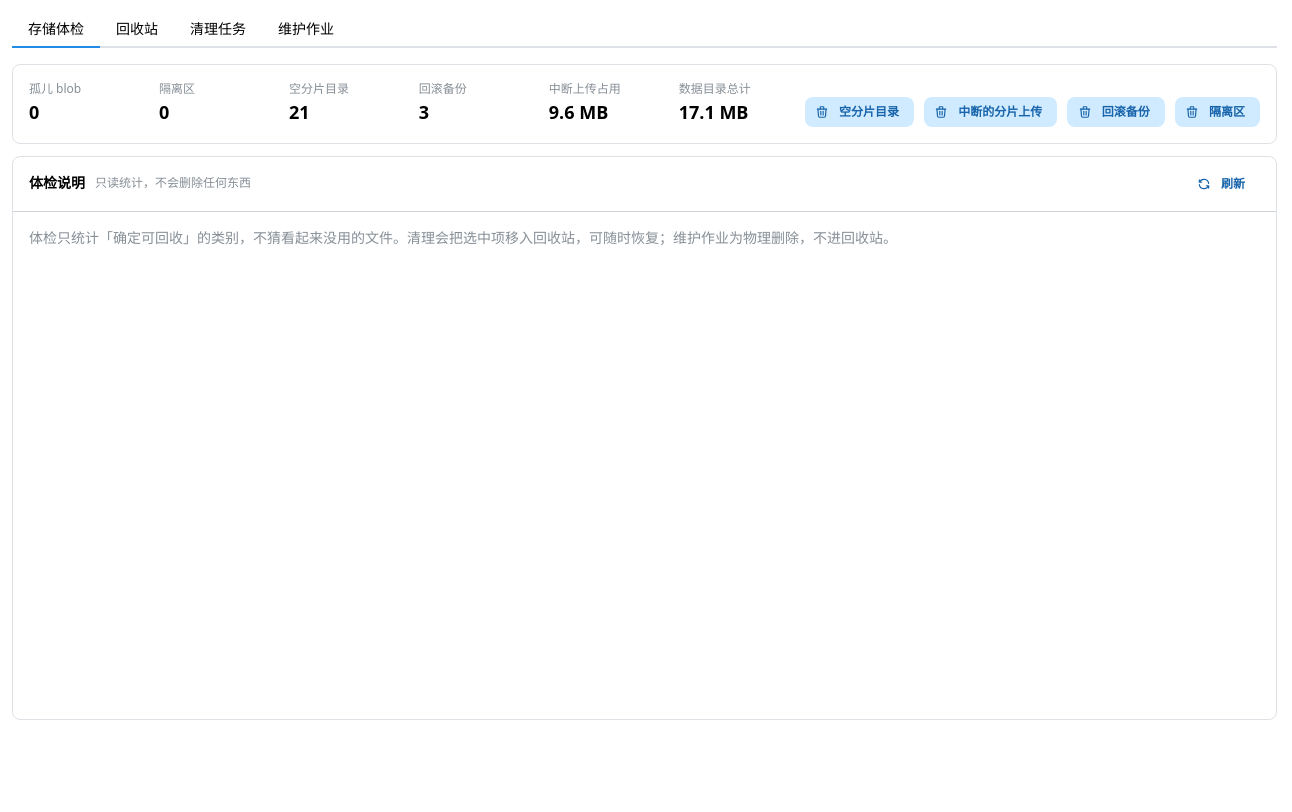
Test case: 维护与清理页：接口形状不符时不白屏 › 作业接口缺字段时其余 Tab 仍可用
This screenshot has width=1292, height=812.
Expected: the text "存储体检" is shown, [28,22,84,36]
Click the tab "维护作业".
click(306, 30)  # box [262,12,350,48]
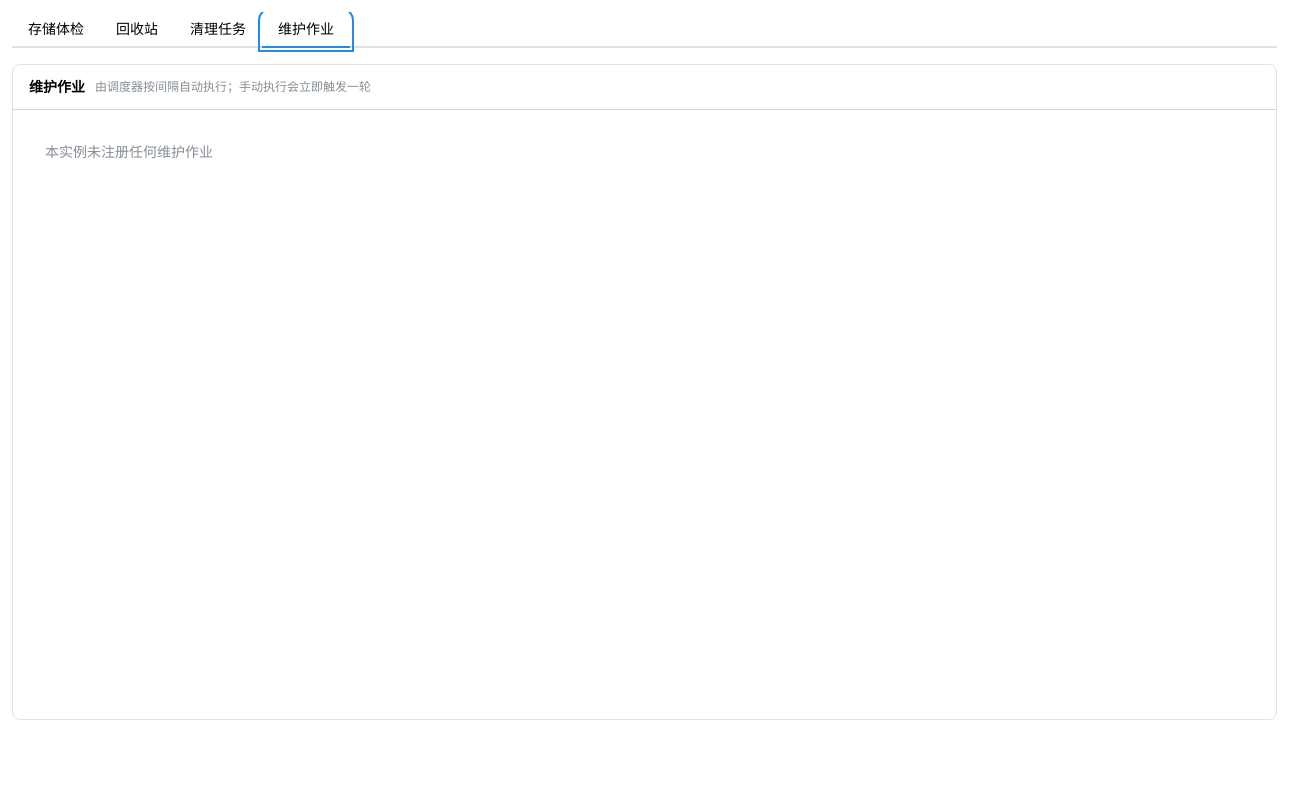
Now the text "本实例未注册任何维护作业" is shown, box [45,142,213,161]
